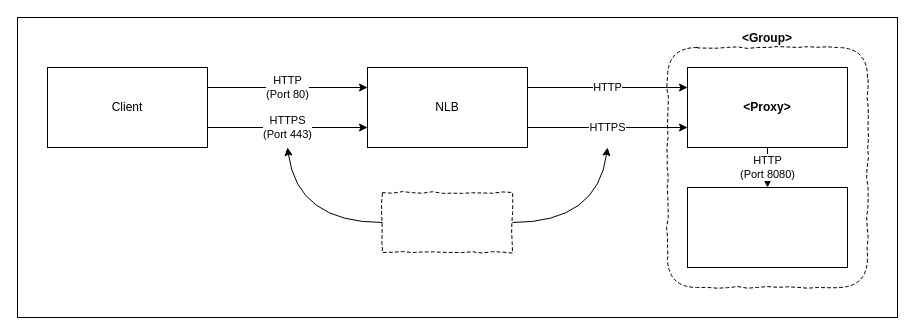
This 915x335 diagram has some shape labels left out. The box of each missing label's shape, as (x1, y1, x2, y2) in pixels:
Client Certificate Authorization Enabled: (382, 192, 512, 252)
Java Application (Spring Boot REST service): (686, 186, 848, 268)
